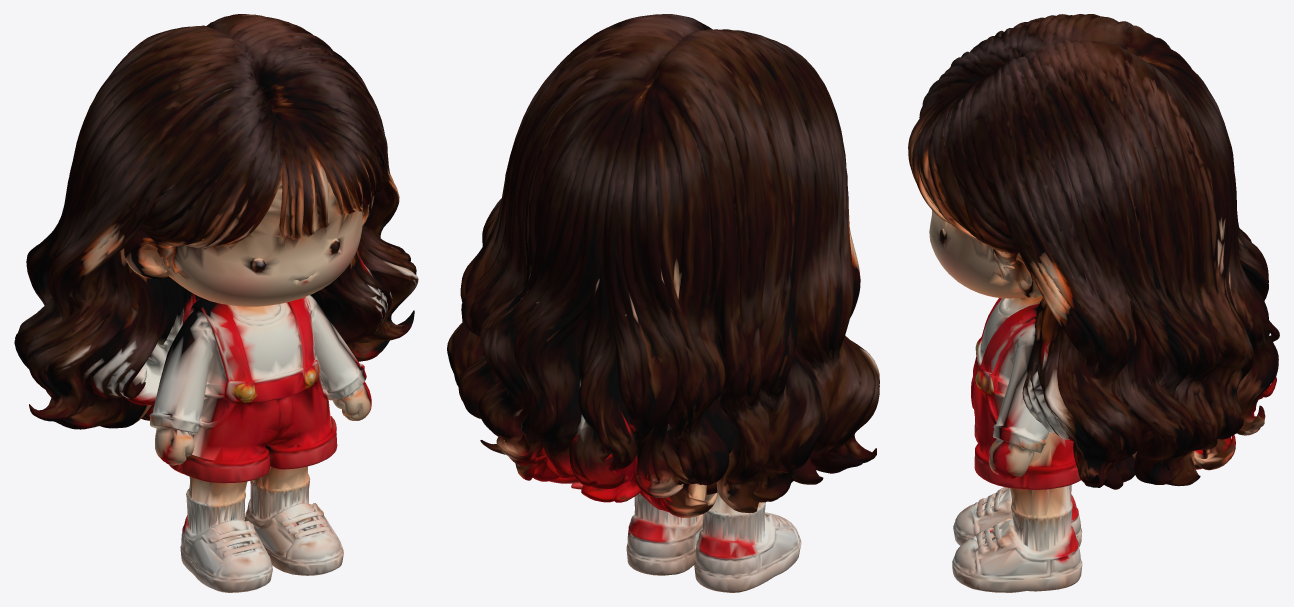
Rendered from character.glb.
The picture shows the model from 3 angles, left to right: view 1: azimuth 30°, elevation 25°; view 2: azimuth 150°, elevation 25°; view 3: azimuth 270°, elevation 25°; orthographic projection. The views are drawn at different scales.
Bounding box in the file's own units: 1.49 × 1.9 × 1.21.
